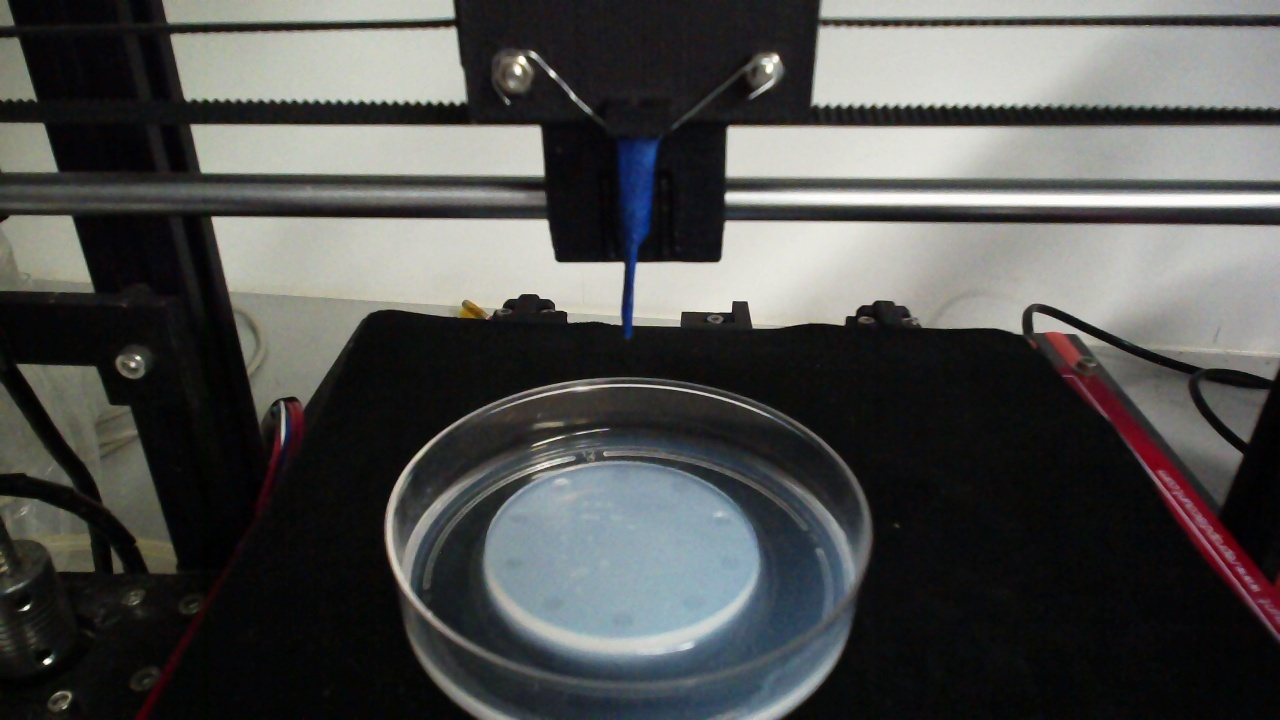groove: (538, 593, 566, 613), (717, 552, 745, 572), (609, 609, 634, 629), (680, 595, 706, 612), (668, 477, 692, 495), (710, 511, 735, 528), (506, 510, 530, 526), (610, 467, 633, 483), (502, 555, 526, 570), (552, 476, 571, 490)
needle: (618, 138, 658, 335)
